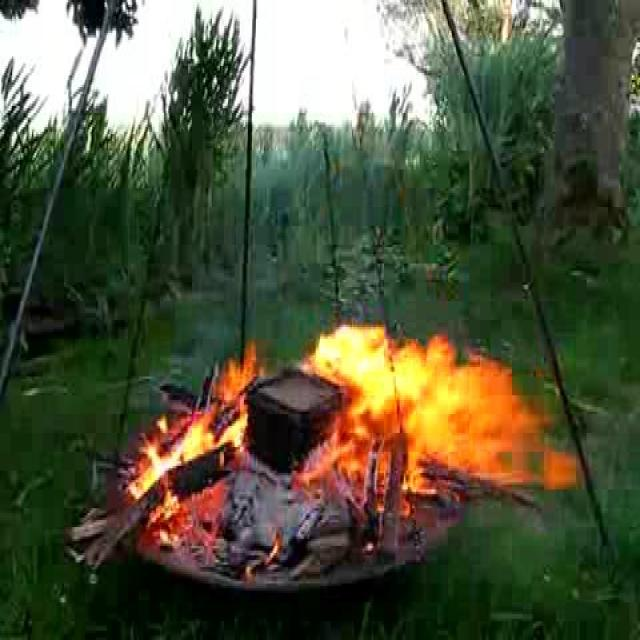fire: (316, 324, 536, 497)
